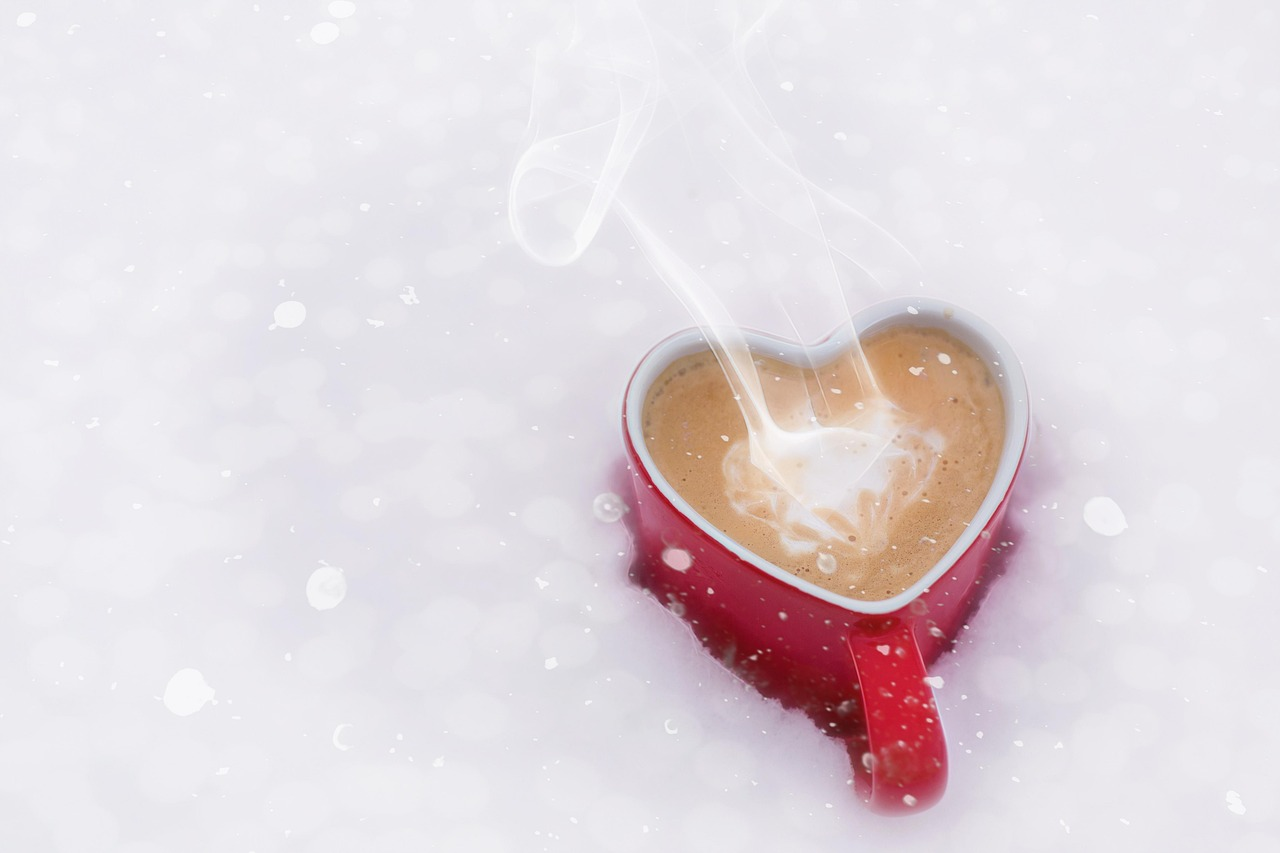mug: (554, 292, 1092, 802)
